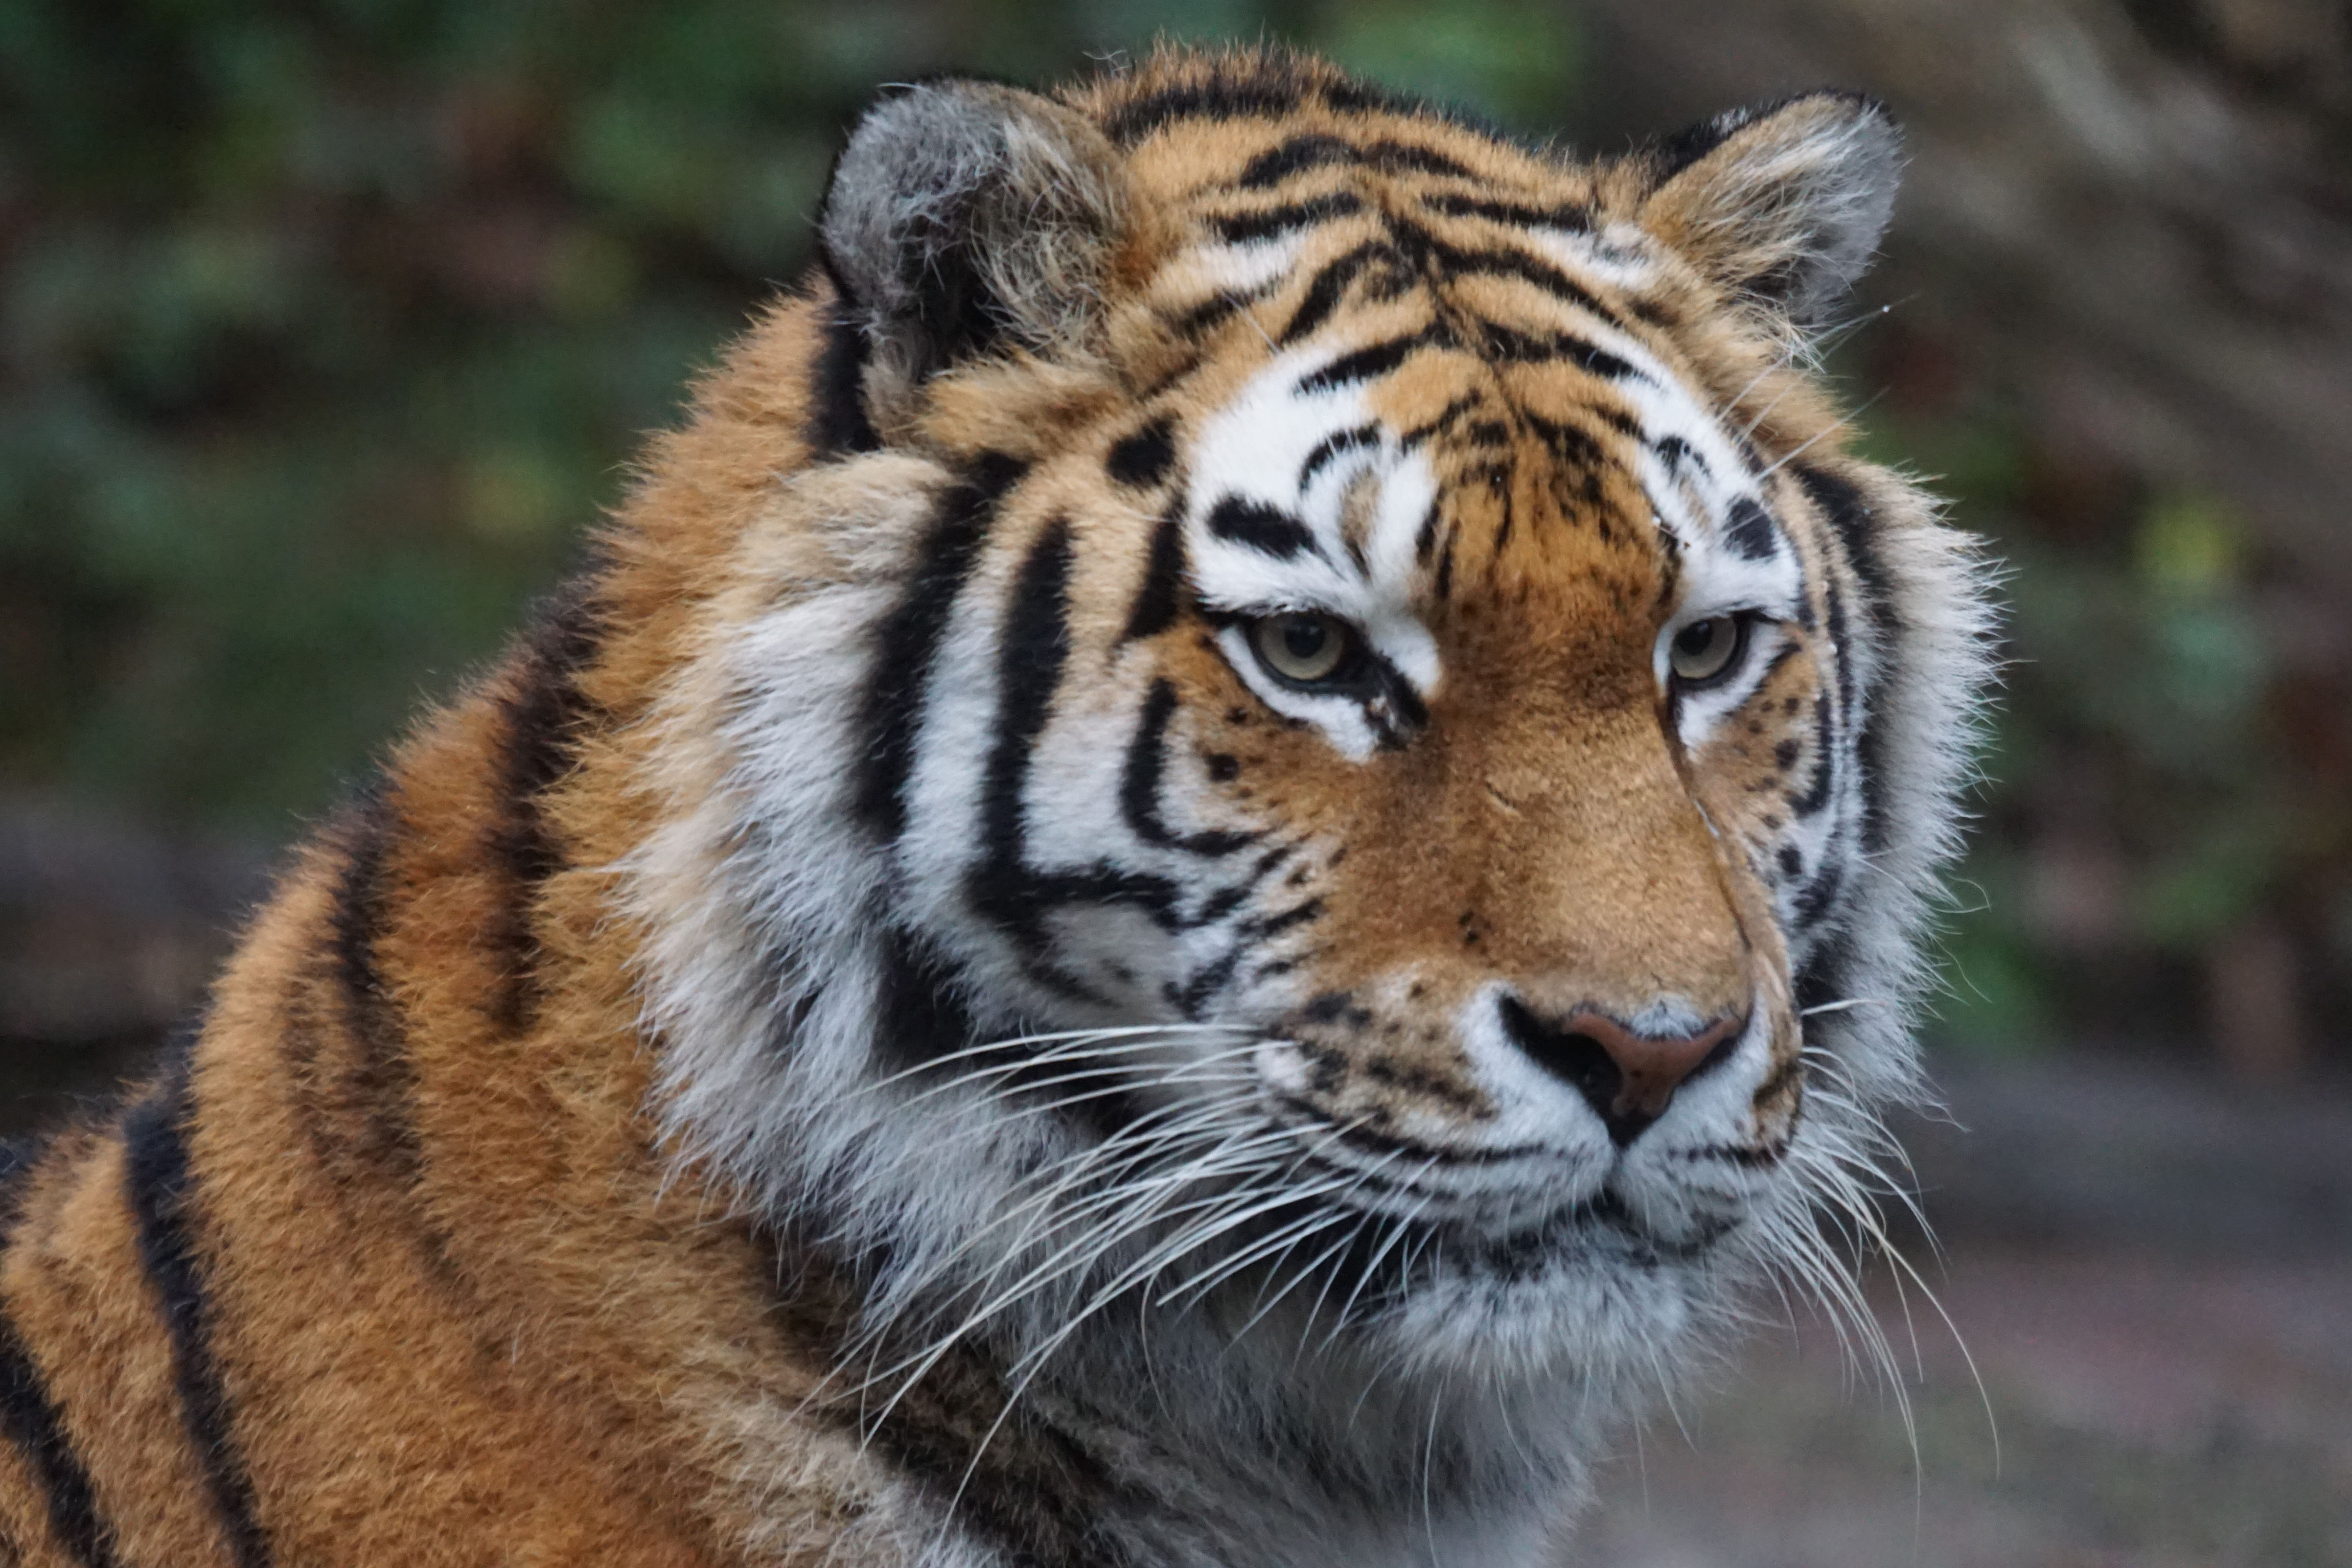tiger: (235, 79, 2103, 1535)
